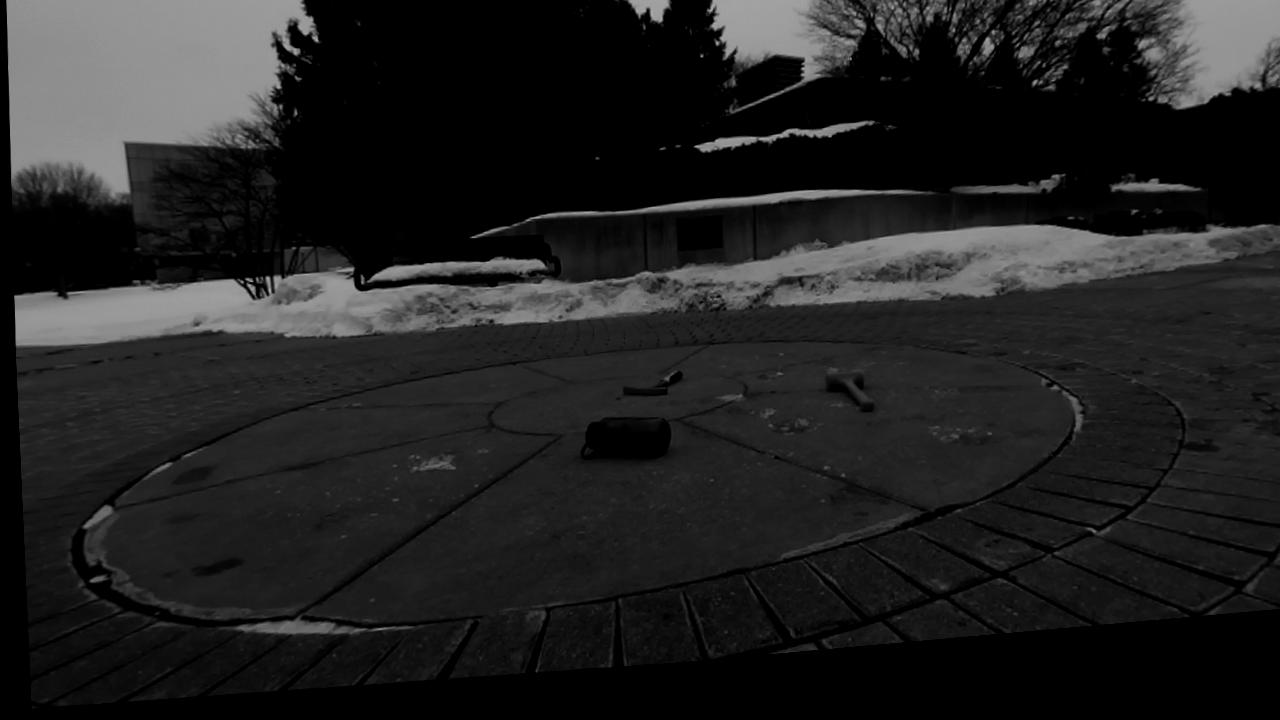bottle: (582, 417, 670, 458)
mallet: (827, 370, 874, 410)
pick: (624, 371, 682, 394)
